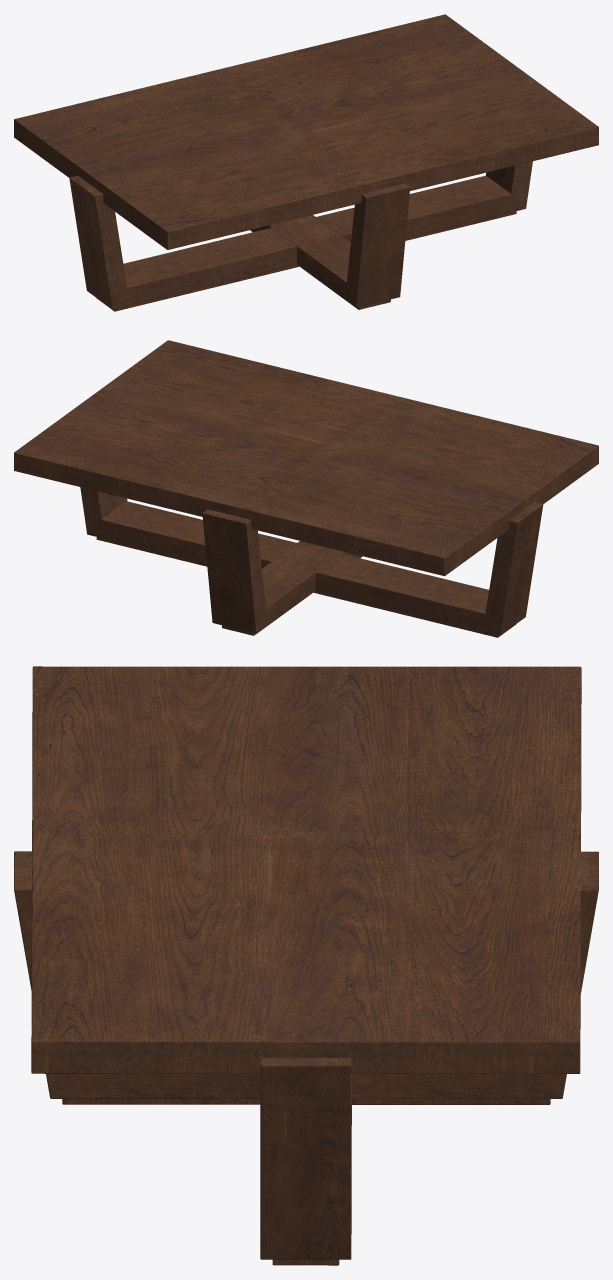
Rendered from Table coffee.obj.
3 renders of one model, top to bottom at view 1: azimuth 30°, elevation 25°; view 2: azimuth 150°, elevation 25°; view 3: azimuth 270°, elevation 25°, orthographic. The views are drawn at different scales.
Parts seen in each view (by area): view 1: _6_Box008; view 2: _6_Box008; view 3: _6_Box008.
Boxes of the visible parts, x1,y1,x2,y2 form: _6_Box008: (14, 14, 598, 311); _6_Box008: (14, 340, 598, 637); _6_Box008: (14, 666, 598, 1265).
Bounding box in the file's own units: 1524 × 432 × 965.
